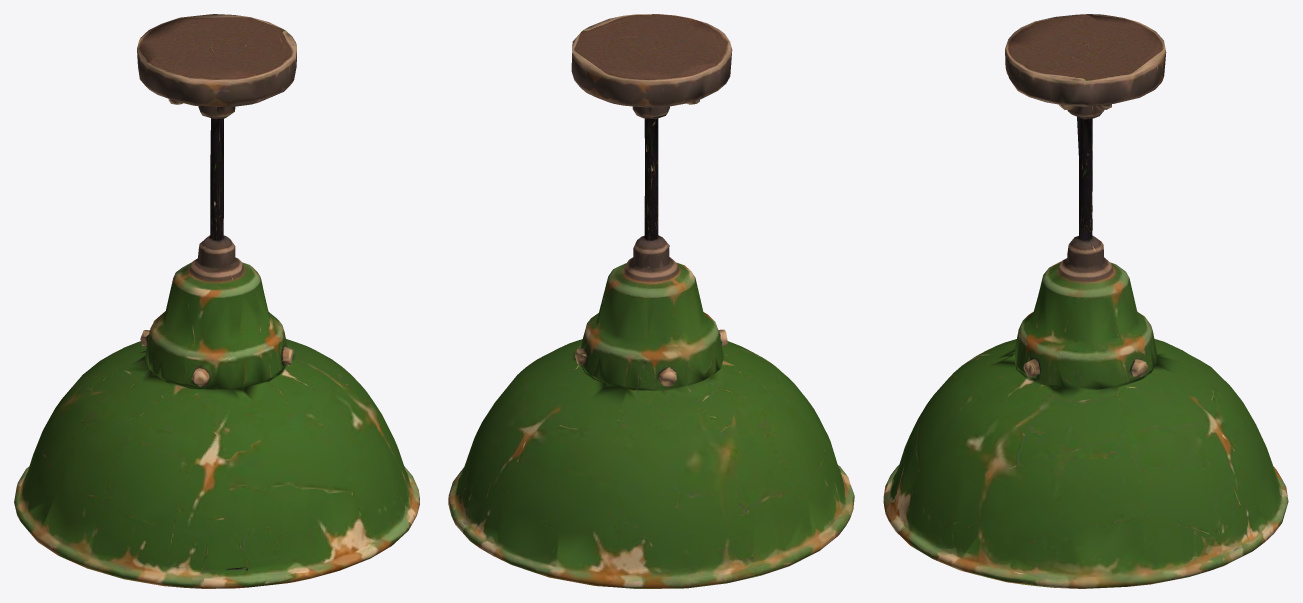
File: d_lamp_enamel.glb
3 views of the same model, side by side, from view 1: azimuth 30°, elevation 25°; view 2: azimuth 150°, elevation 25°; view 3: azimuth 270°, elevation 25° (orthographic).
Size of the model in its own units: 1.5 by 1.9 by 1.5.
Materials: 1 (1 with a texture image).
